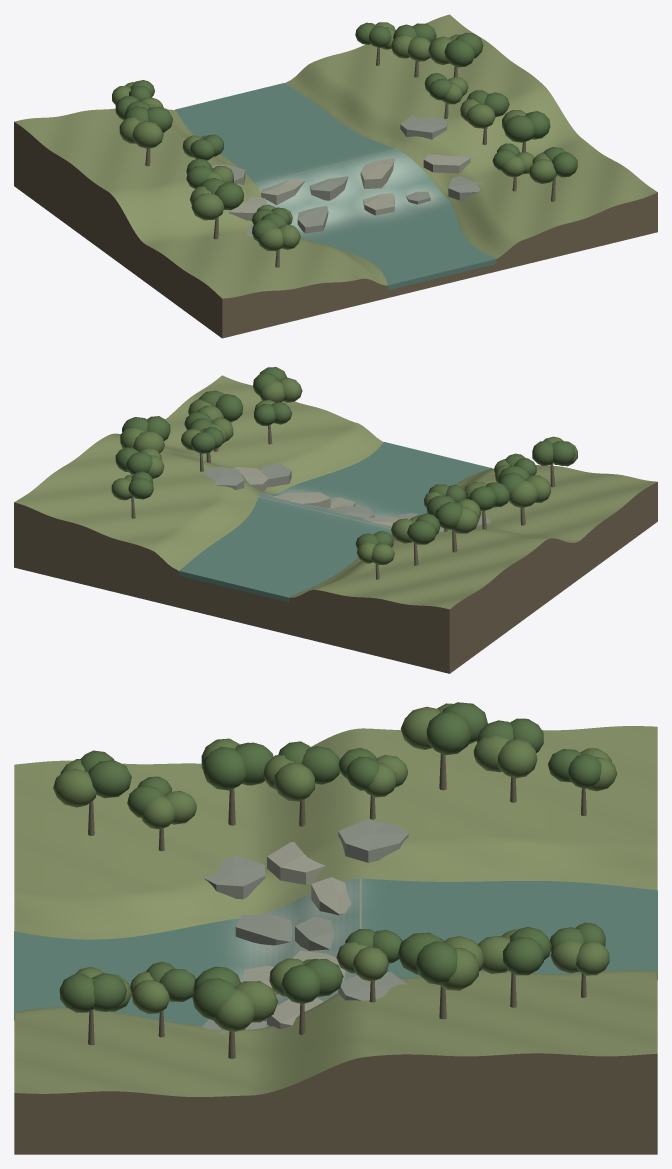
File: gms-23.glb
3 views of the same model, one above another, from view 1: azimuth 30°, elevation 25°; view 2: azimuth 150°, elevation 25°; view 3: azimuth 270°, elevation 25° (orthographic). The views are drawn at different scales.
Visible parts, largest first — view 1: GMS-23 - estudio del paisaje; view 2: GMS-23 - estudio del paisaje; view 3: GMS-23 - estudio del paisaje.
Part boxes in pixels (x1=…): GMS-23 - estudio del paisaje: x1=14, y1=14, x2=657, y2=338; GMS-23 - estudio del paisaje: x1=14, y1=367, x2=657, y2=673; GMS-23 - estudio del paisaje: x1=14, y1=702, x2=657, y2=1154.
Size of the model in its own units: 11.6 by 2.81 by 9.61.
